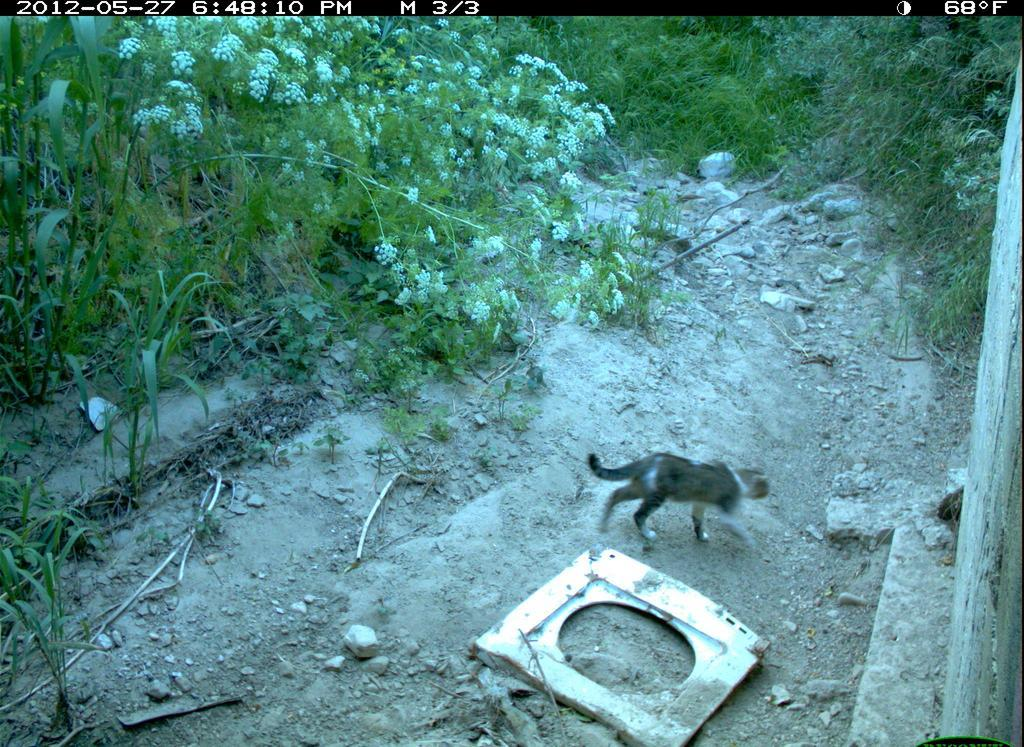cat: (580, 442, 777, 557)
